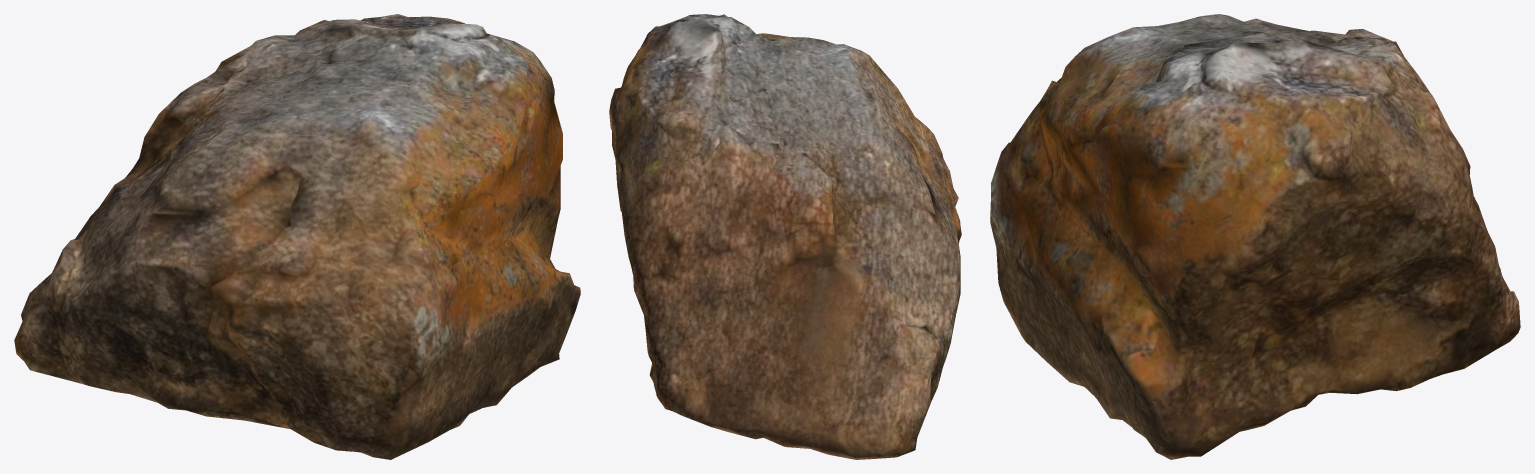
The model's file is namaqualand_boulder_04.glb.
3 renders of one model, left to right at view 1: azimuth 30°, elevation 25°; view 2: azimuth 150°, elevation 25°; view 3: azimuth 270°, elevation 25°, orthographic. The views are drawn at different scales.
Visible parts, largest first — view 1: boulder_04; view 2: boulder_04; view 3: boulder_04.
Part boxes in pixels (left/top/right/bottom): boulder_04: left=14, top=14, right=580, bottom=459; boulder_04: left=609, top=14, right=961, bottom=459; boulder_04: left=990, top=14, right=1520, bottom=459.
Bounding box in the file's own units: 2.52 × 1.9 × 2.48.
1 material, 1 textured.
